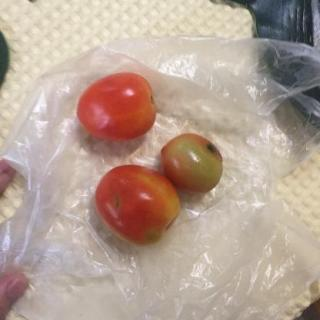Tomat: (85, 162, 193, 249), (75, 69, 161, 142), (154, 124, 233, 201)
